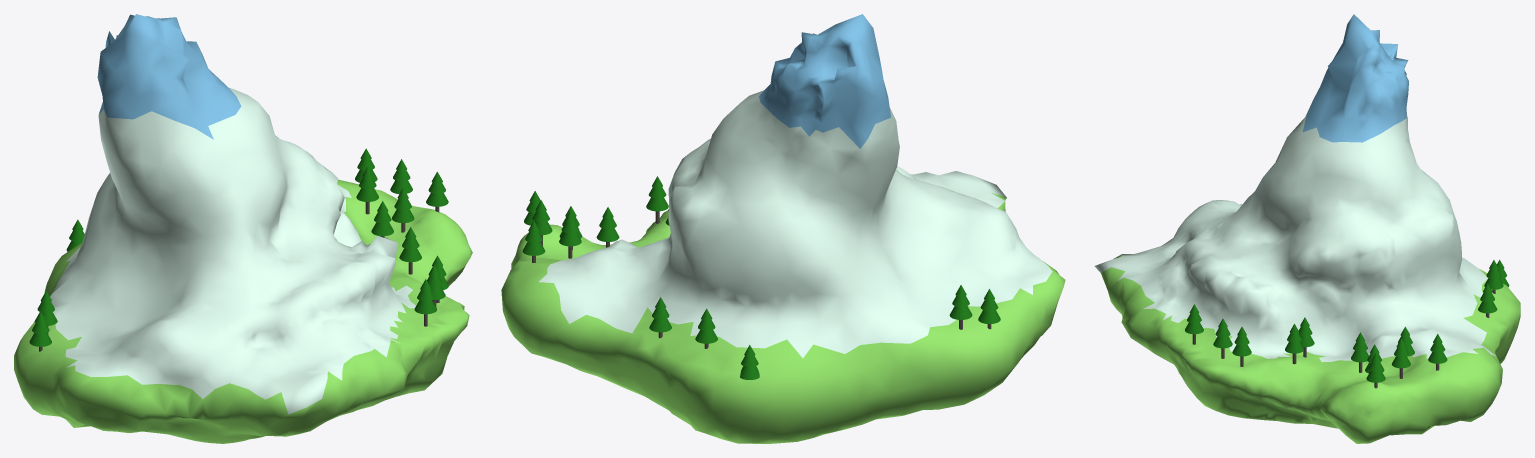
Rendered from Bjerg.fbx.
3 renders of one model, left to right at view 1: azimuth 30°, elevation 25°; view 2: azimuth 150°, elevation 25°; view 3: azimuth 270°, elevation 25°, orthographic. The views are drawn at different scales.
Parts seen in each view (by area): view 1: Icosphere, Cone.003, Cone.011, Cone.014, Cone.006, Cone.007, Cone.010, Cone.004, Cone.002; view 2: Icosphere, Cone.003, Cone.011; view 3: Icosphere.
Boxes of the visible parts, x1,y1,x2,y2 form: Icosphere: [14, 14, 472, 443]; Cone.003: [356, 167, 378, 214]; Cone.011: [399, 227, 421, 274]; Cone.014: [414, 279, 436, 326]; Cone.006: [392, 188, 414, 232]; Cone.007: [426, 171, 448, 212]; Cone.010: [29, 311, 51, 351]; Cone.004: [371, 201, 393, 237]; Cone.002: [390, 159, 412, 194]; Icosphere: [501, 14, 1065, 443]; Cone.003: [559, 211, 581, 258]; Cone.011: [646, 176, 668, 223]; Icosphere: [1094, 14, 1520, 443].
Size of the model in its own units: 1692 by 1338 by 1548.
